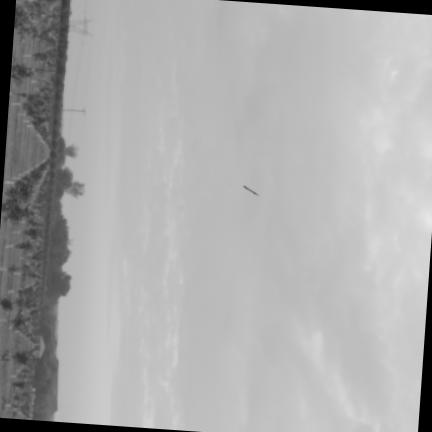Shahed: (243, 185, 258, 195)
